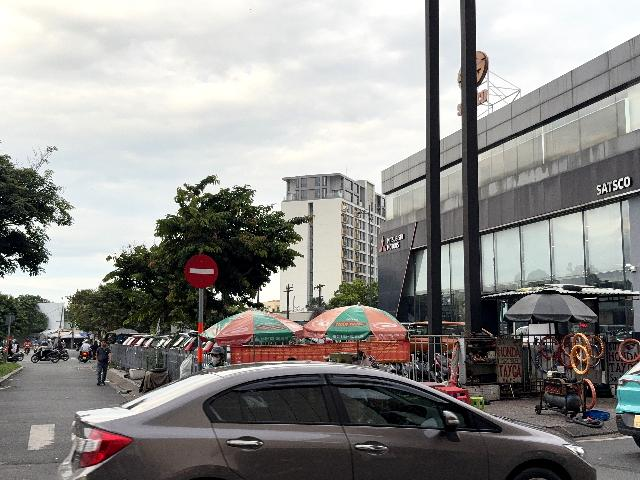cam-di-nguoc-chieu: (184, 254, 219, 288)
